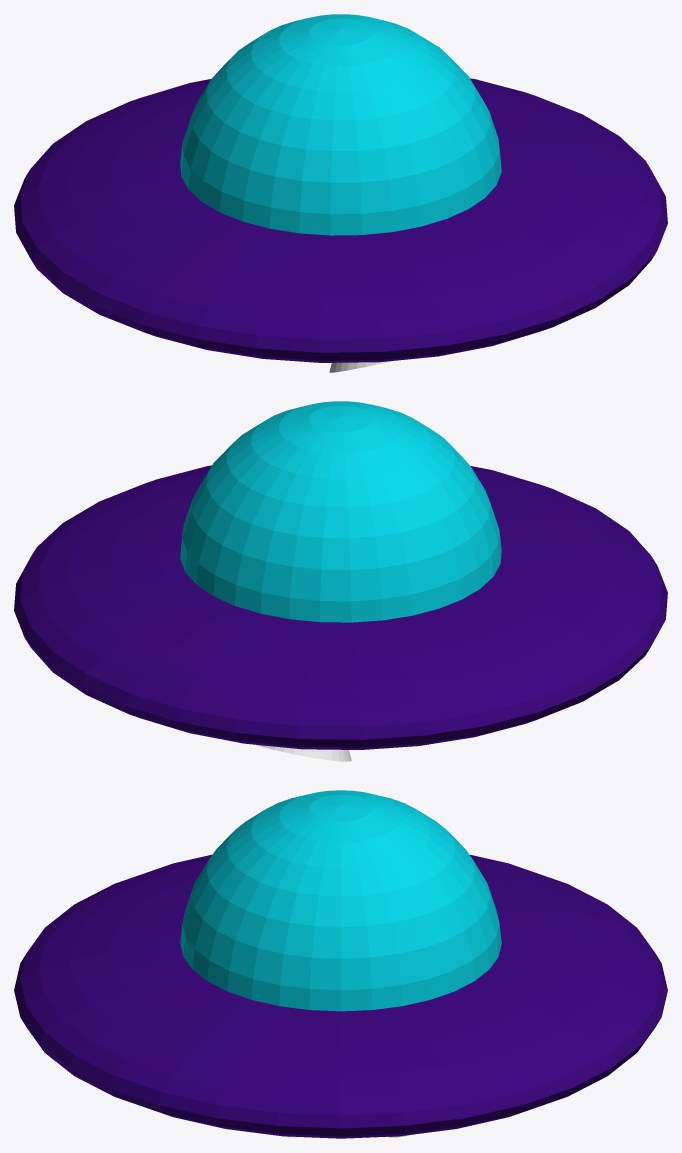
Rendered from ufo.glb.
3 views of the same model, one above another, from view 1: azimuth 30°, elevation 25°; view 2: azimuth 150°, elevation 25°; view 3: azimuth 270°, elevation 25° (orthographic).
Parts seen in each view (by area): view 1: Sphere, Sphere.001; view 2: Sphere, Sphere.001, Cone.001; view 3: Sphere, Sphere.001.
Part boxes in pixels (box(x1,y1,x2,y2)): Sphere: box(14, 78, 667, 362); Sphere.001: box(180, 14, 501, 235); Sphere: box(14, 465, 667, 749); Sphere.001: box(180, 401, 501, 622); Cone.001: box(257, 745, 351, 761); Sphere: box(14, 854, 667, 1138); Sphere.001: box(180, 790, 501, 1011).
Size of the model in its own units: 2.78 by 1.51 by 2.78.
